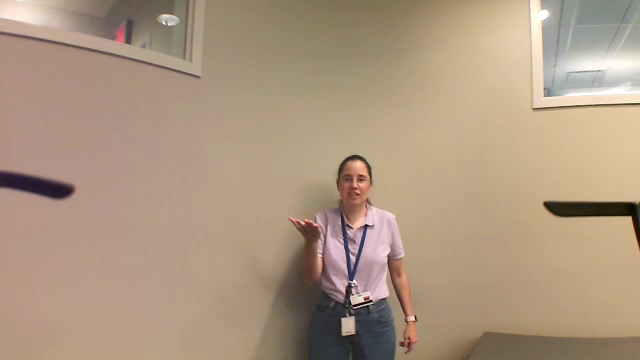land: (280, 209, 333, 260)
